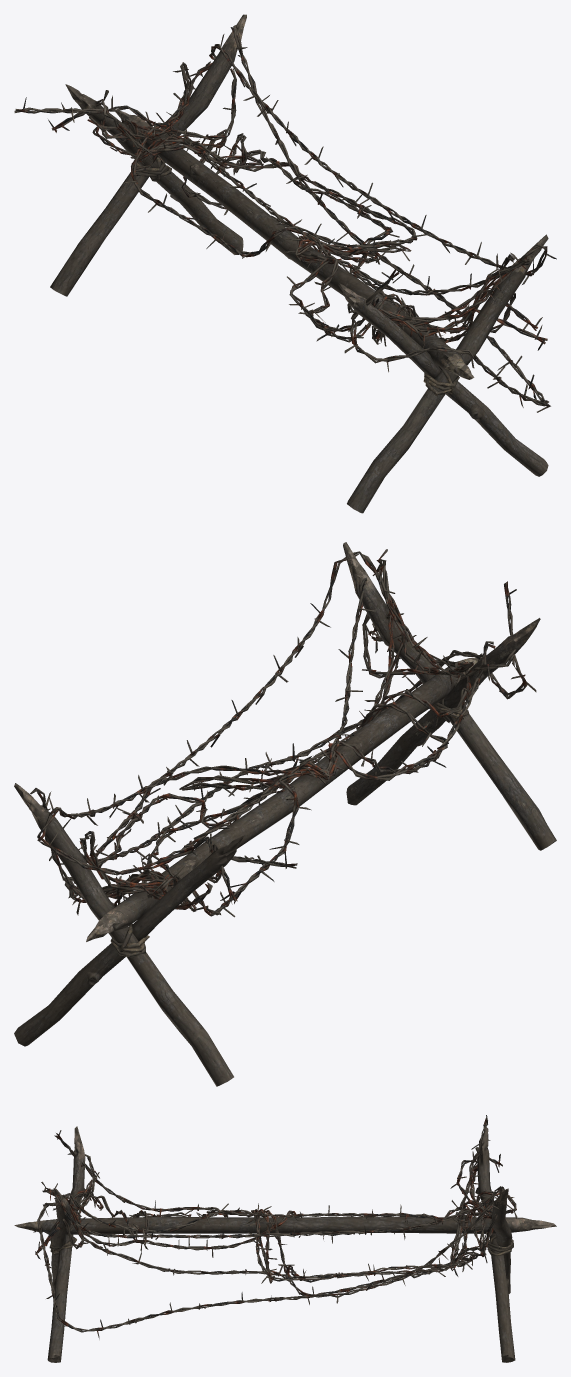
File: SM_BarbedWire03.glb
3 renders of one model, top to bottom at view 1: azimuth 30°, elevation 25°; view 2: azimuth 150°, elevation 25°; view 3: azimuth 270°, elevation 25°, orthographic. The views are drawn at different scales.
Parts seen in each view (by area): view 1: SM_BarbedWire03; view 2: SM_BarbedWire03; view 3: SM_BarbedWire03.
Part boxes in pixels (box(x1,y1,x2,y2)): SM_BarbedWire03: box(14, 14, 556, 513); SM_BarbedWire03: box(14, 542, 556, 1086); SM_BarbedWire03: box(14, 1115, 556, 1362).
Bounding box in the file's own units: 1.6 × 1.37 × 3.74.
Materials: 1 (1 with a texture image).
